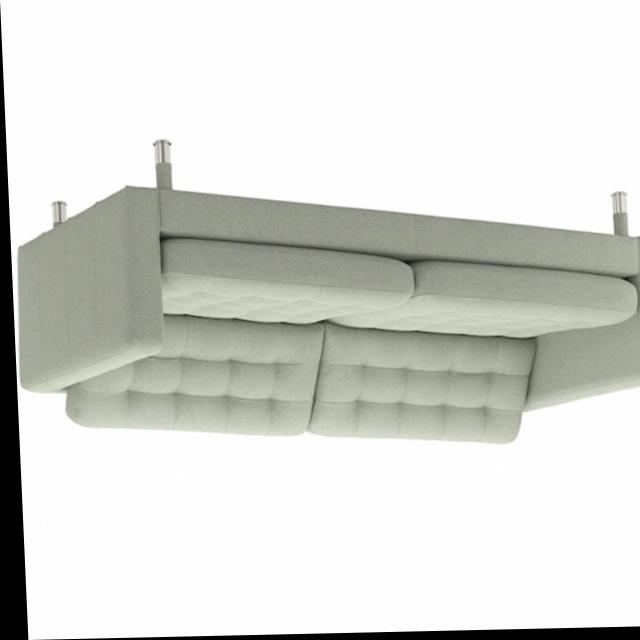Sofa: (8, 134, 640, 457)
